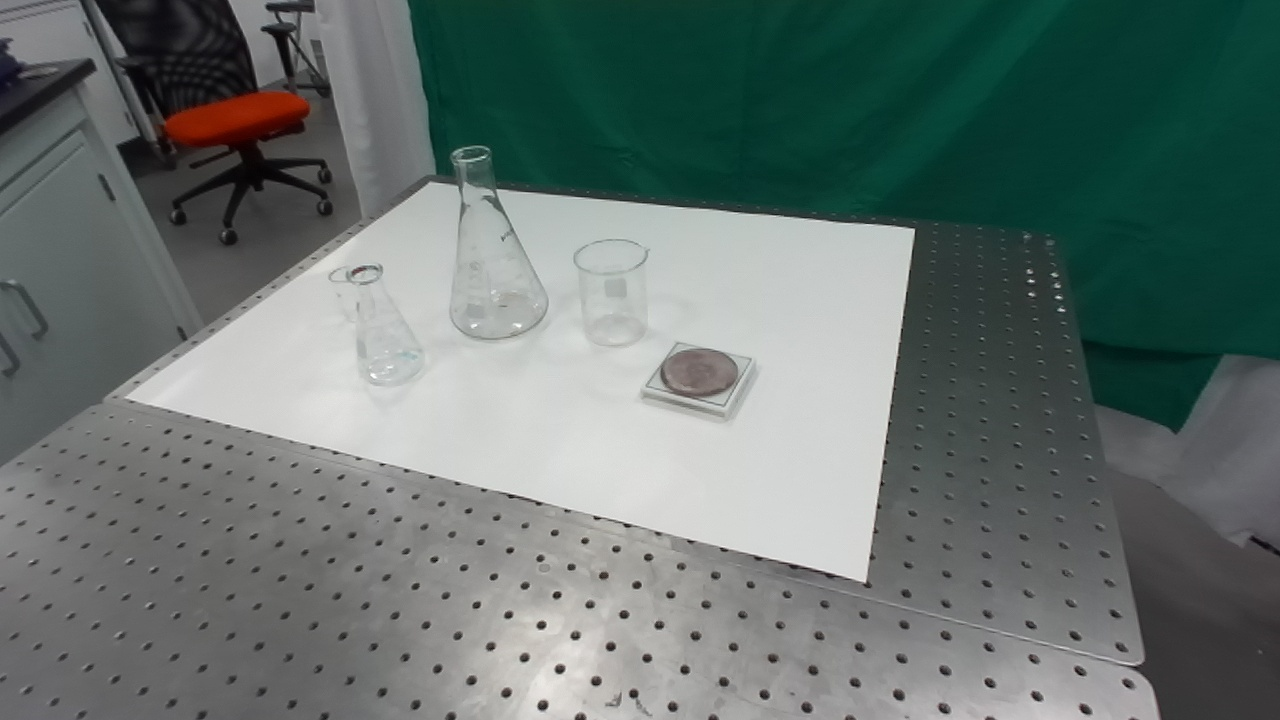glass: (446, 142, 552, 345), (342, 262, 429, 391), (570, 235, 651, 350), (327, 263, 379, 327)
plate: (636, 338, 762, 421)
